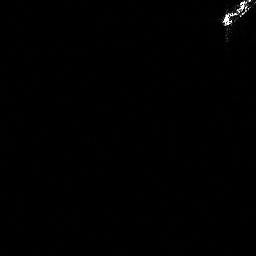ship: (220, 1, 255, 27)
